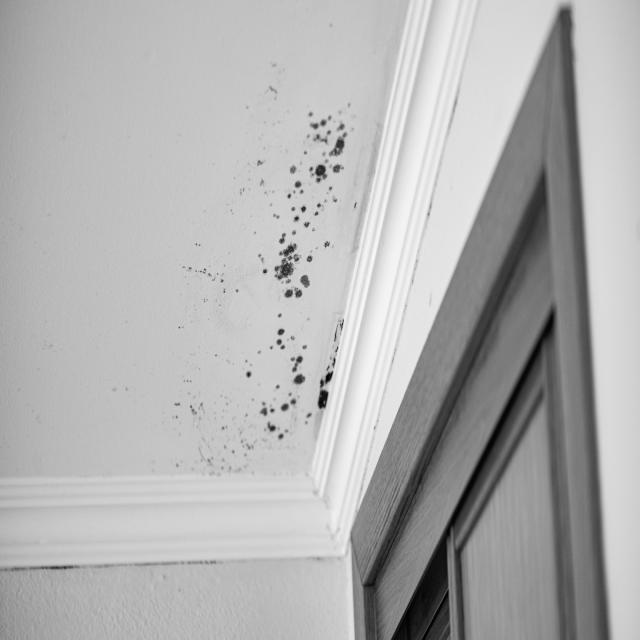stain marks: (158, 50, 389, 501)
